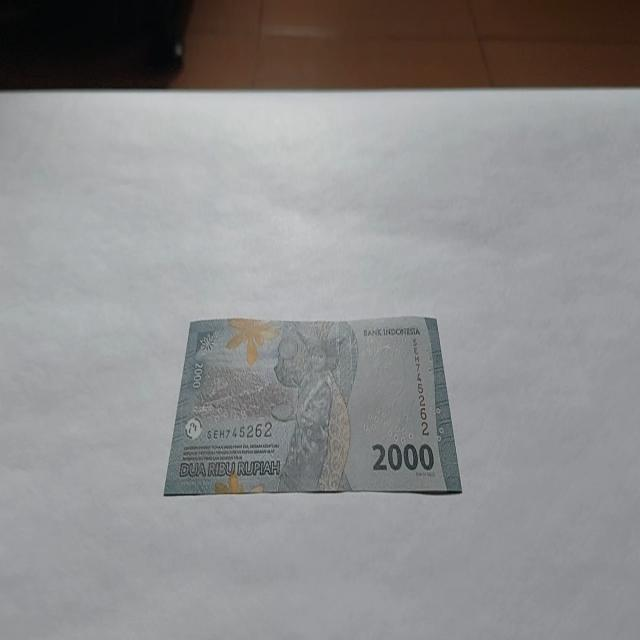dua ribu rupiah: (162, 314, 462, 497)
